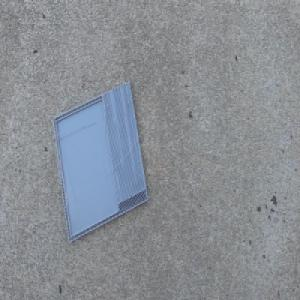PlasticPart: (51, 80, 149, 244)
